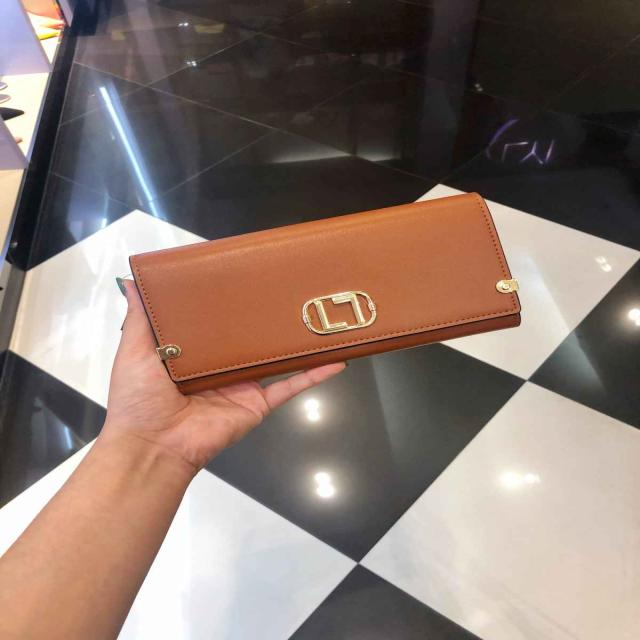handbag: (114, 182, 539, 411)
